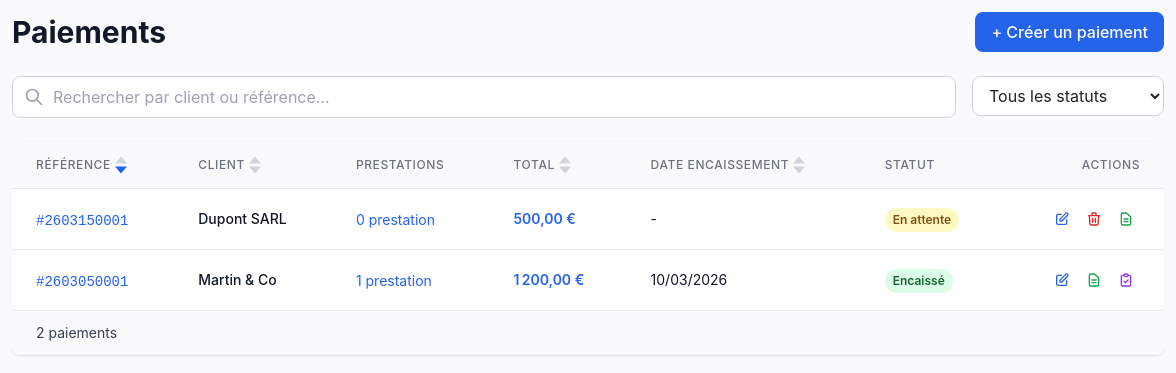
it: Paiements page › filters paiements by status
The image size is (1176, 373).
Select "Encaissé" in the dropdown showing "Tous les statuts" at (1068, 96), box top-left (972, 76), bottom-right (1164, 116)
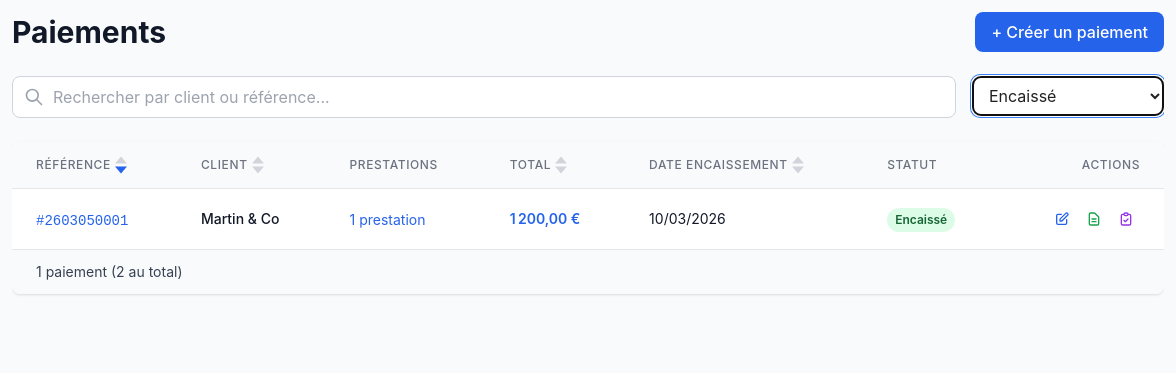
Check: the text "Dupont SARL" is gone
